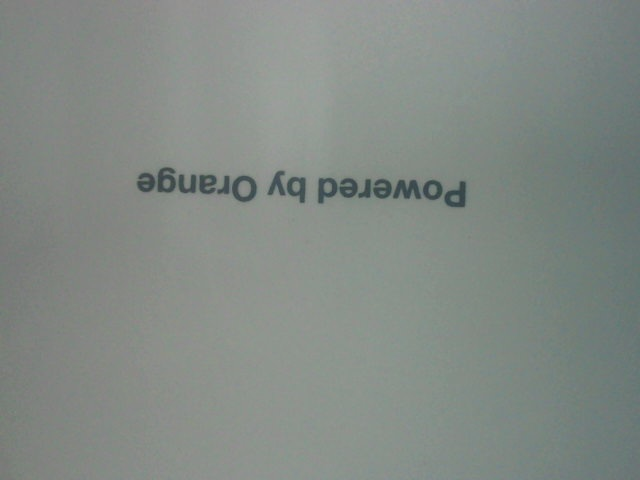AS_PowerByOrange: (114, 150, 472, 220)
